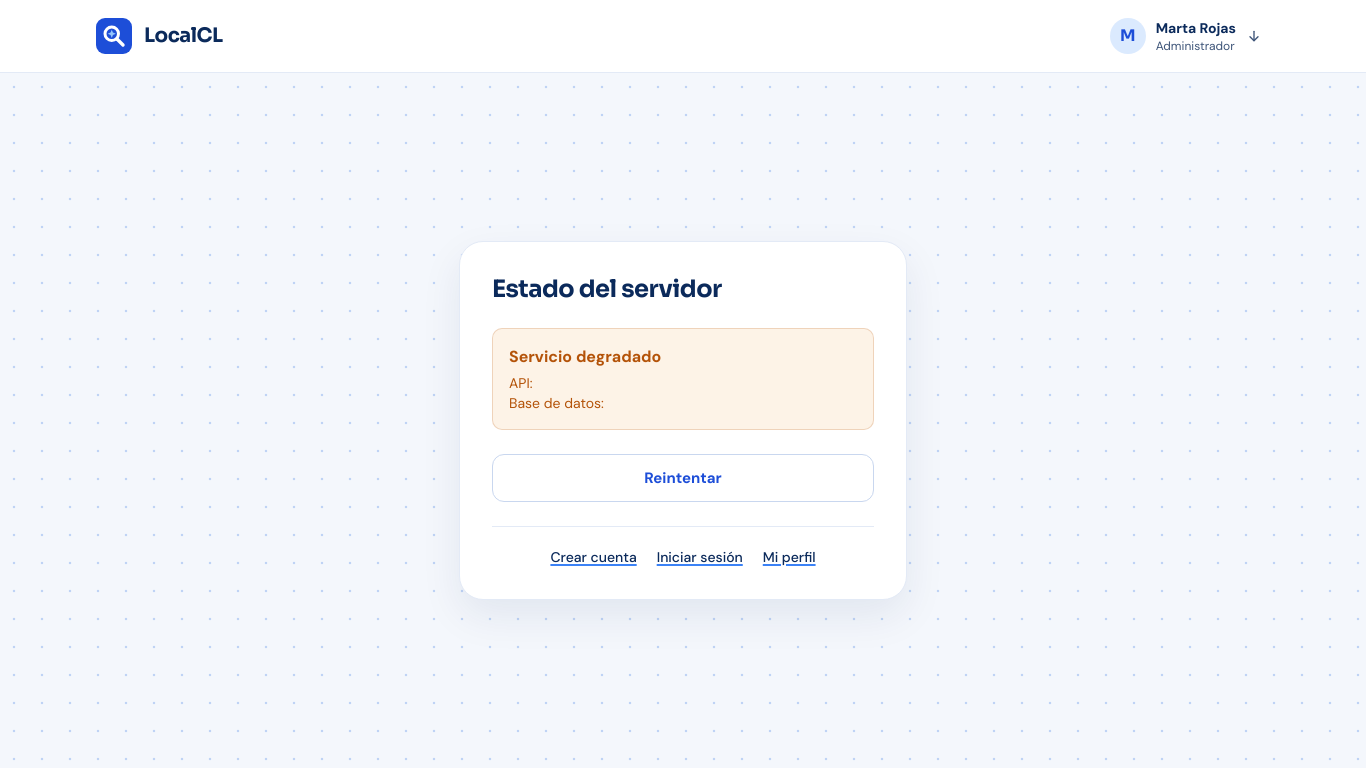
Scenario: Encabezado › las opciones del menú dependen del rol
Click the button "M Marta Rojas Administrador".
click(1188, 36)  # box [1106,14,1270,58]
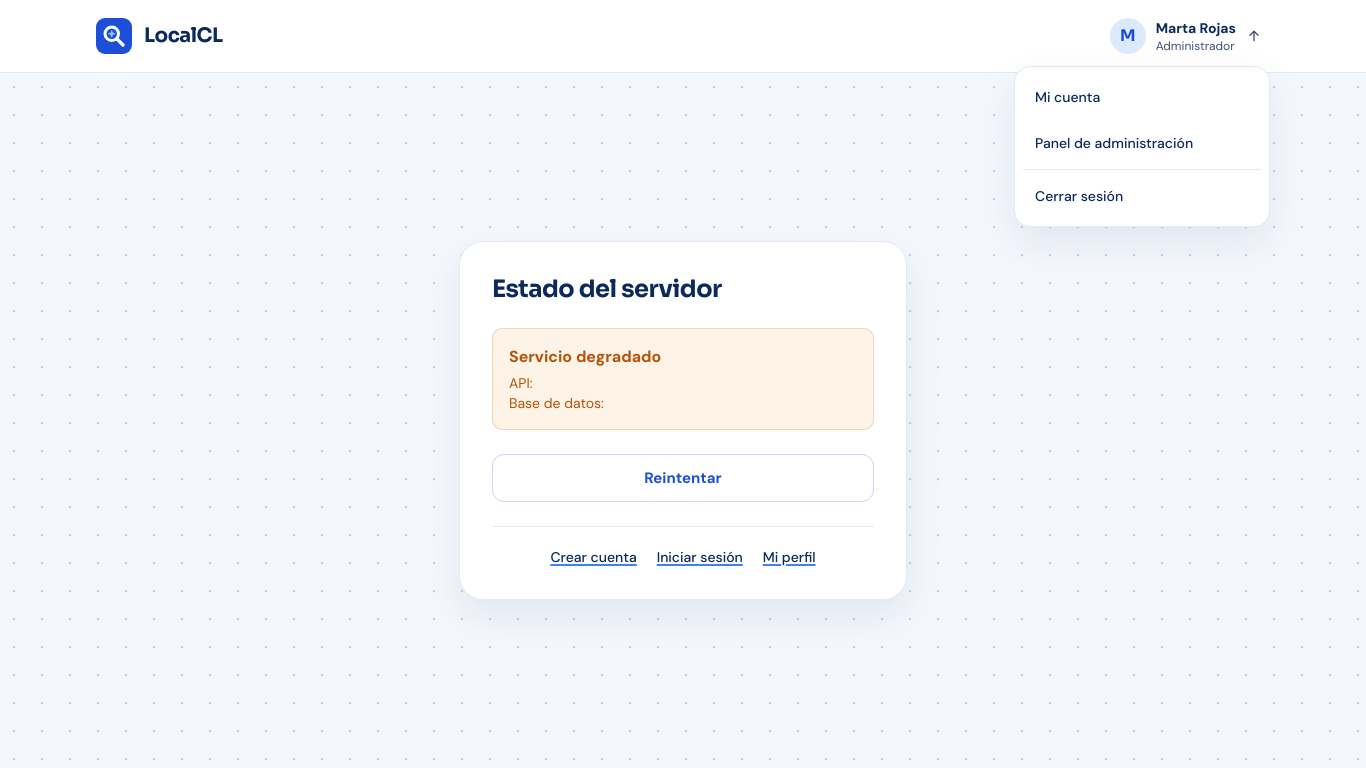
Result: the button "Cerrar sesión" is shown at [1023,174,1261,218]
